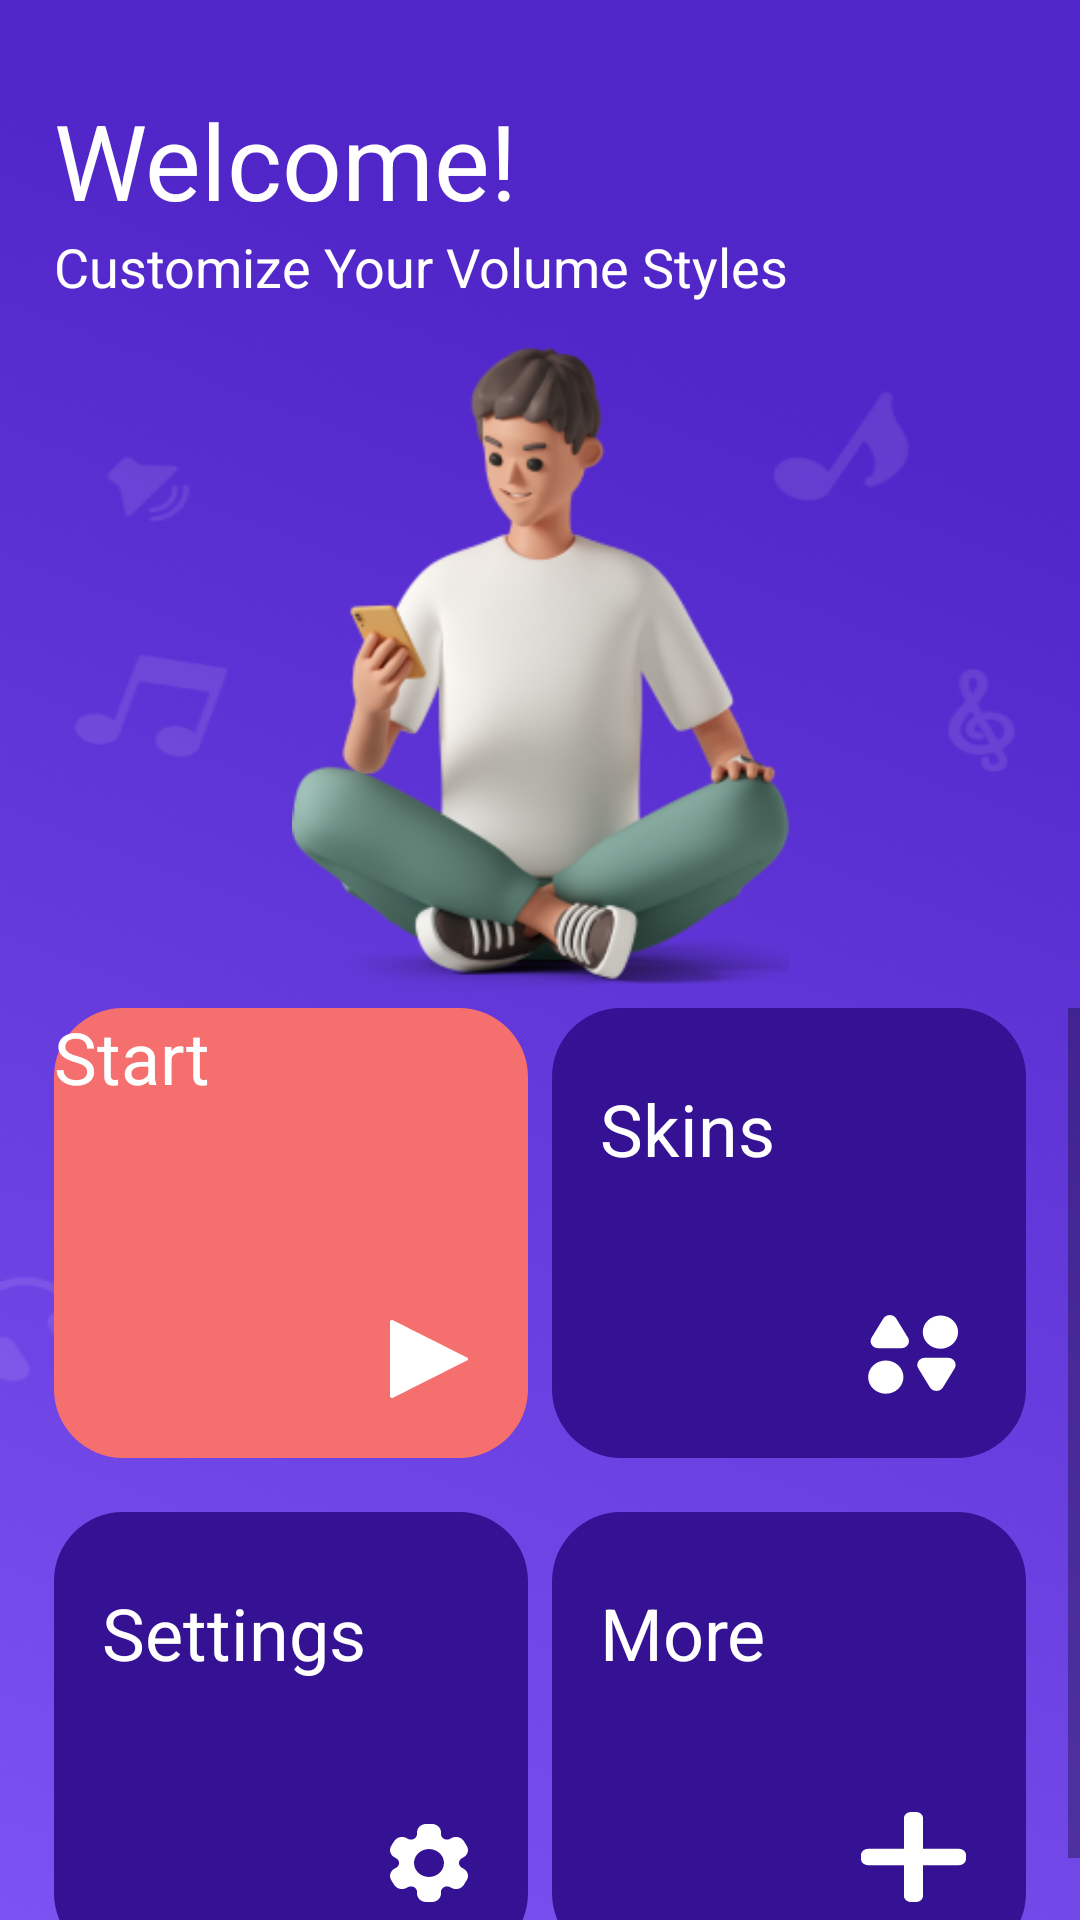

Named icons in this screenshot (1080w x 1920h) and their centers, point (x, y):
start: point (429, 1359)
